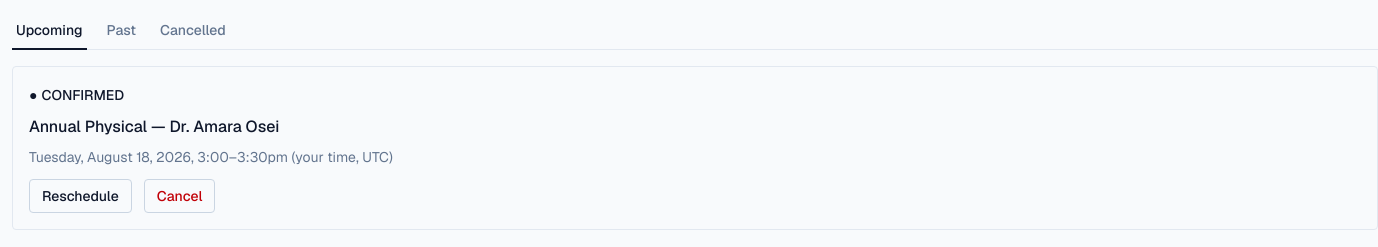
Test case: PatientAppointments › switches to the Past tab and shows only past/closed bookings
The image size is (1378, 247).
Expected: the text "Annual Physical — Dr. Amara Osei" is shown, [29,116,279,137]
Click the tab "Past" at (121, 31), box [102,12,140,50]
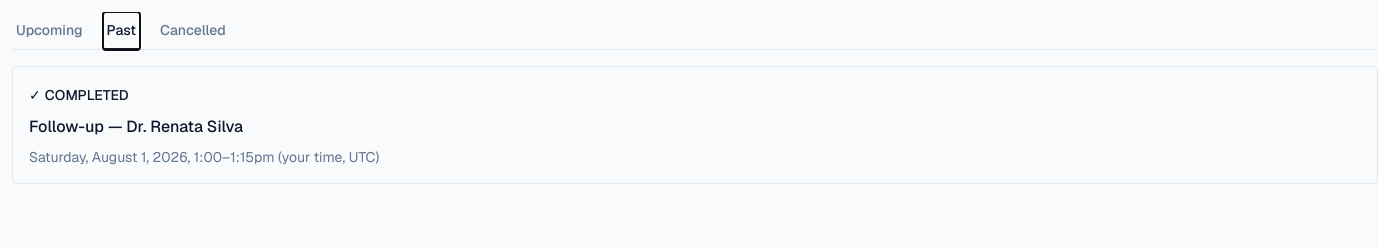
Expected: the text "Follow-up — Dr. Renata Silva" is shown, [29,116,243,137]
Expected: the text "Annual Physical — Dr. Amara Osei" is gone
